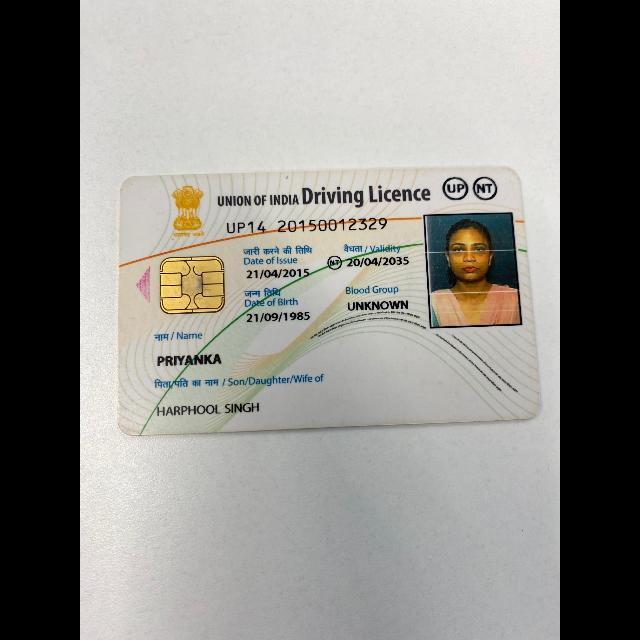driving_licence: (109, 160, 546, 442)
